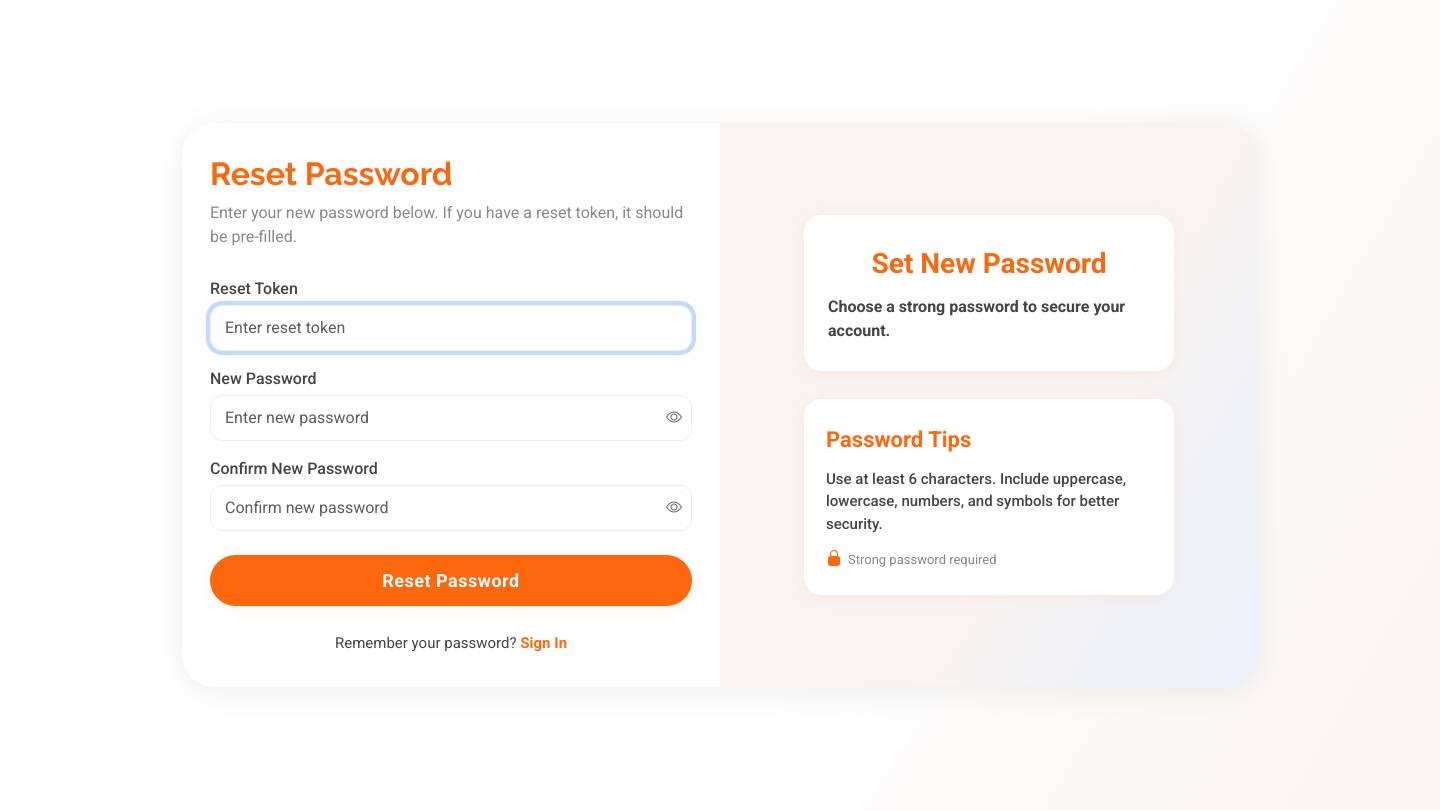
Test: ResetPassword › shows error when token is empty on submit
Click the button "Reset Password".
click(451, 581)  # box [210,555,692,606]
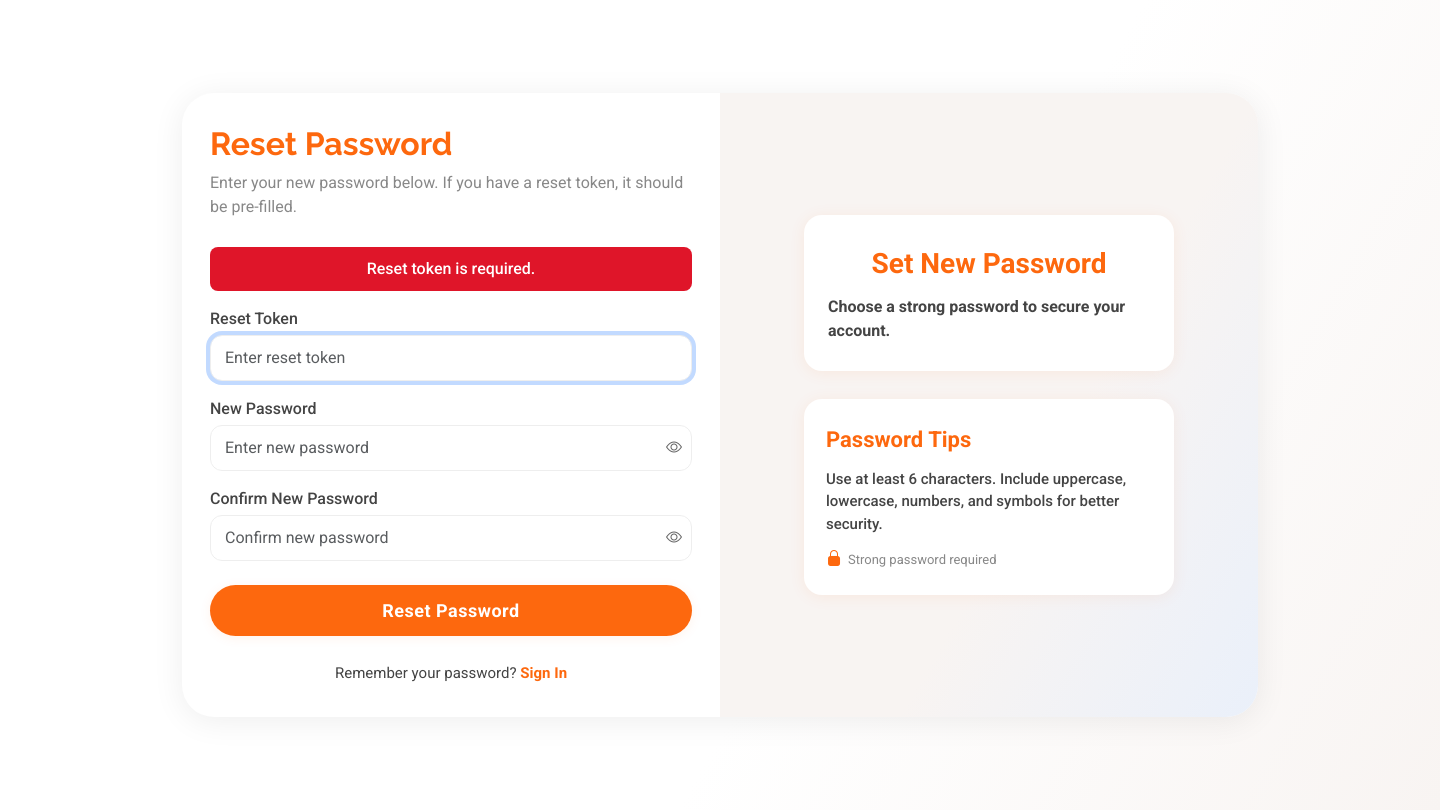
Check: the text "Reset token is required." is shown, box [210,247,692,291]
